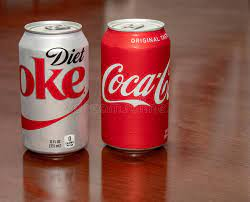can: (11, 13, 94, 160), (96, 12, 177, 159)
